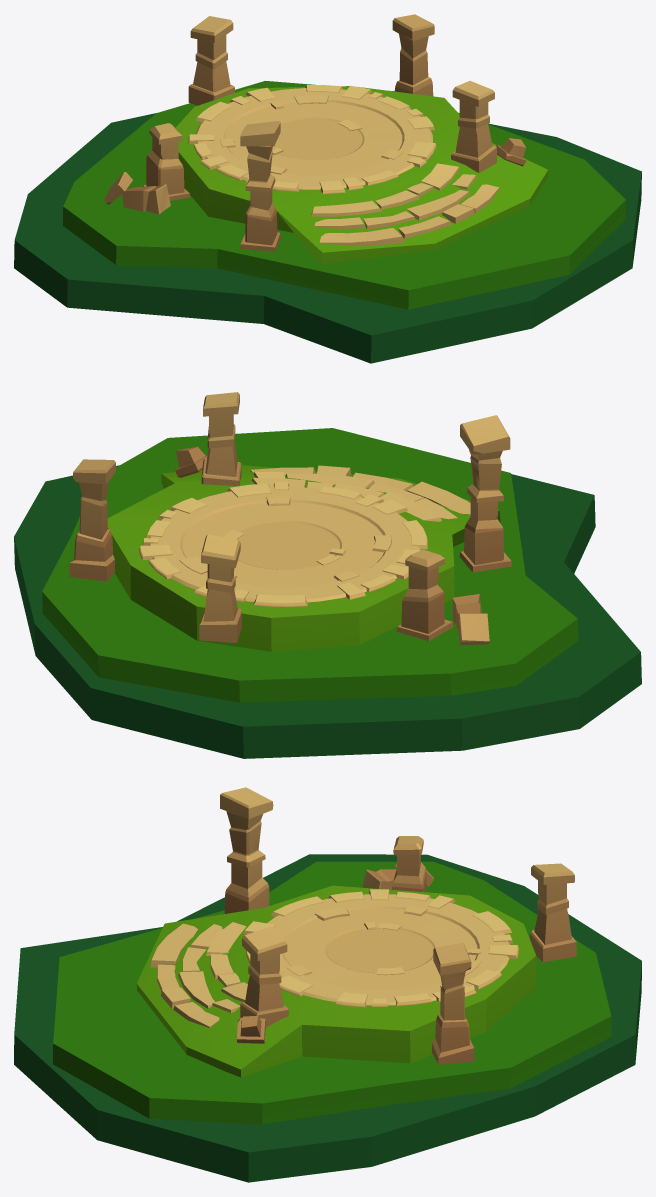
Rendered from SM_VU_Shop.FBX.
The picture shows the model from 3 angles, top to bottom: view 1: azimuth 30°, elevation 25°; view 2: azimuth 150°, elevation 25°; view 3: azimuth 270°, elevation 25°; orthographic projection. The views are drawn at different scales.
Parts seen in each view (by area): view 1: GroundLayer, Altar, RocksAltar, Pillar06, Pillar03, Pillar00, Steps00, Pillar07, Pillar05, Steps02, Steps01, Pillar02 (+2 smaller); view 2: GroundLayer, Altar, RocksAltar, Pillar06, Pillar00, Pillar07, Pillar03, Pillar05, Pillar02, Steps00, Steps01, Steps02 (+2 smaller); view 3: GroundLayer, Altar, RocksAltar, Pillar00, Pillar03, Pillar06, Steps00, Pillar02, Pillar05, Steps01, Steps02, Pillar07 (+2 smaller).
Boxes of the visible parts, x1,y1,x2,y2 form: GroundLayer: (14,81,641,363); Altar: (195,88,432,189); RocksAltar: (188,85,436,194); Pillar06: (104,121,280,214); Pillar03: (451,81,496,172); Pillar00: (188,16,234,105); Steps00: (319,184,499,245); Pillar07: (143,123,189,200); Pillar05: (240,175,280,251); Steps02: (311,163,459,216); Steps01: (314,174,476,229); Pillar02: (394,48,433,96); GroundLayer: (14,428,641,758); Altar: (148,486,420,602); RocksAltar: (139,482,427,606); Pillar06: (452,415,510,645); Pillar00: (199,534,241,643); Pillar07: (396,549,453,640); Pillar03: (201,392,241,485); Pillar05: (459,484,511,572); Pillar02: (69,496,115,581); Steps00: (250,465,470,514); Steps01: (253,472,457,519); Steps02: (251,478,441,521); GroundLayer: (14,854,641,1182); Altar: (267,894,510,1005); RocksAltar: (243,889,518,1007); Pillar00: (530,863,576,962); Pillar03: (240,926,288,1027); Pillar06: (220,787,433,889); Steps00: (150,923,219,1027); Pillar02: (432,984,474,1064); Pillar05: (224,850,269,913); Steps01: (178,924,240,1012); Steps02: (206,922,247,1002); Pillar07: (392,836,426,892).
Bounding box in the file's own units: 183 × 54.24 × 166.
